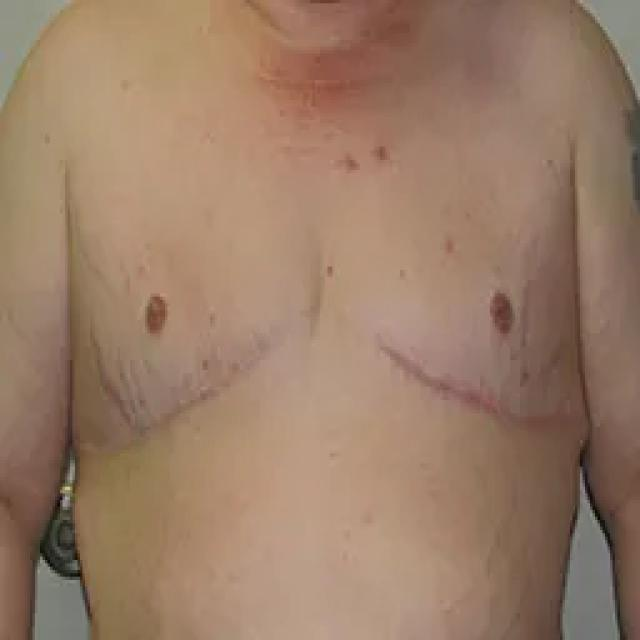Seno herido: (63, 190, 325, 487), (332, 192, 594, 488)
